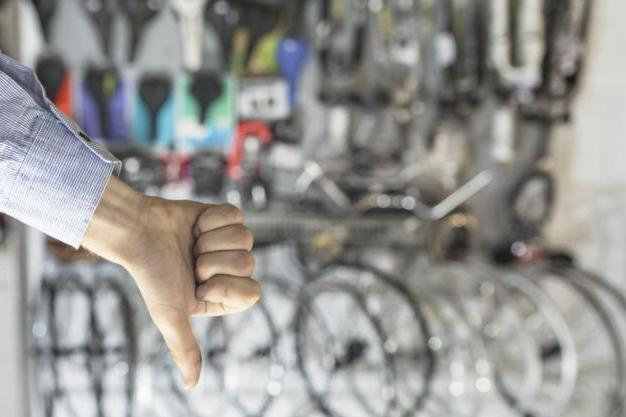thumbsdown: (166, 202, 262, 391)
